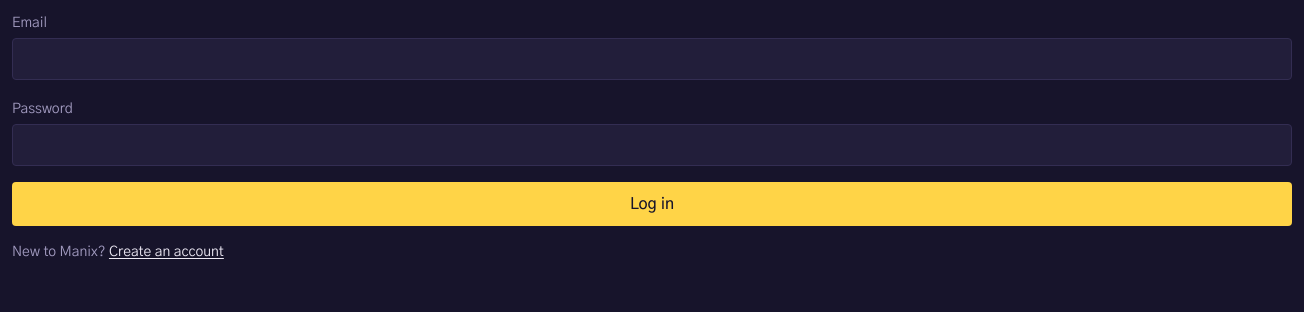
Test: AuthForm › shows a readable message when the credentials are wrong
Type "reader@example.com" into the field labelled "Email" at (652, 59), box x1=12 y1=38 x2=1292 y2=80
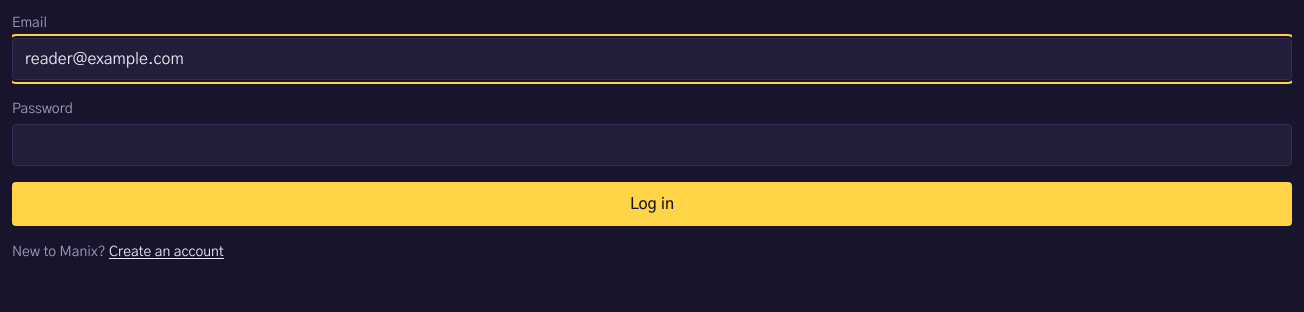
Type "wrong-password" into the password field labelled "Password" at (652, 145), box x1=12 y1=124 x2=1292 y2=166
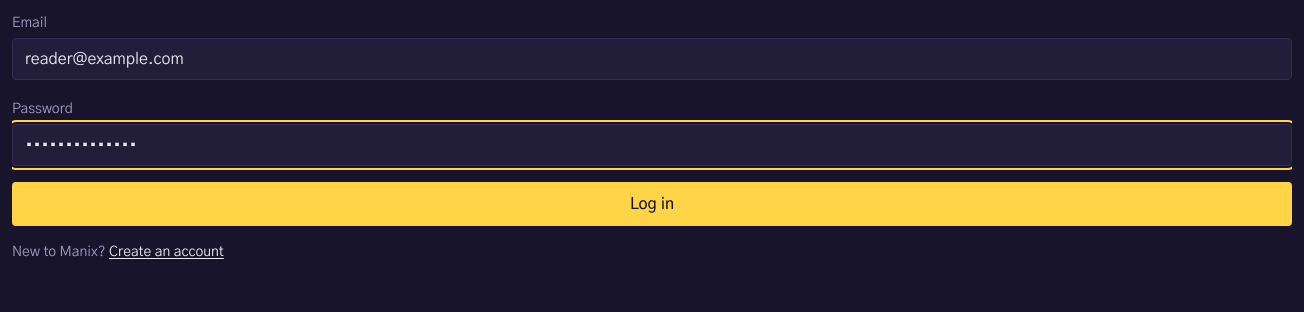
Click the button "Log in" at (652, 204), box x1=12 y1=182 x2=1292 y2=226
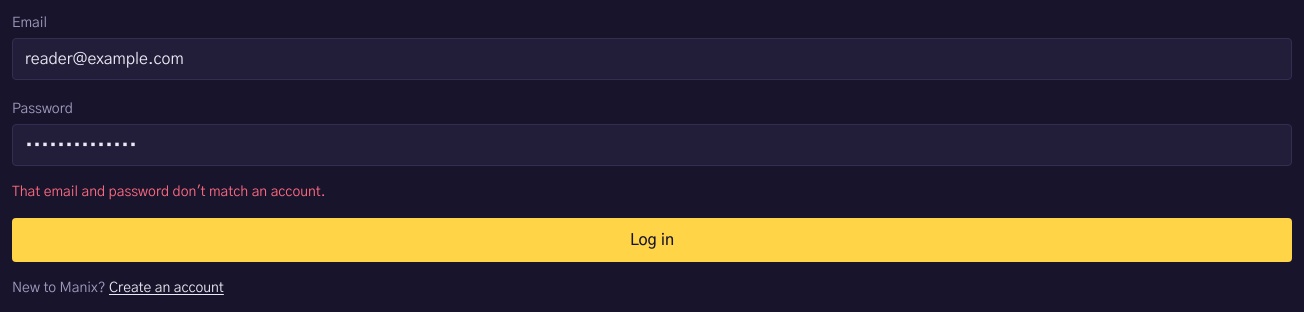
Result: the message reads "That email and password don't match an account." at x1=12 y1=185 x2=326 y2=199
